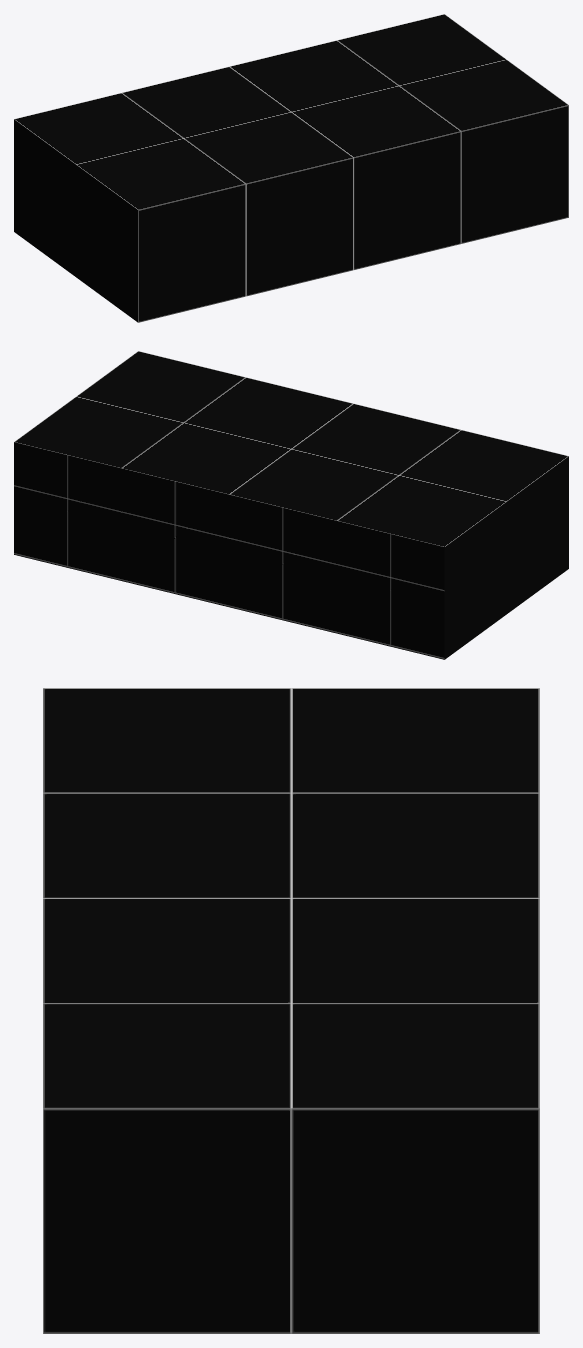
File: Platform_Two.fbx
3 views of the same model, one above another, from view 1: azimuth 30°, elevation 25°; view 2: azimuth 150°, elevation 25°; view 3: azimuth 270°, elevation 25° (orthographic). The views are drawn at different scales.
Parts seen in each view (by area): view 1: Platform_Two:pCube4089; view 2: Platform_Two:pCube4089; view 3: Platform_Two:pCube4089.
Boxes of the visible parts, box(x1,y1,x2,y2) form: Platform_Two:pCube4089: box(14, 14, 568, 322); Platform_Two:pCube4089: box(14, 351, 568, 659); Platform_Two:pCube4089: box(43, 688, 539, 1333).
Size of the model in its own units: 4 by 1 by 2.
